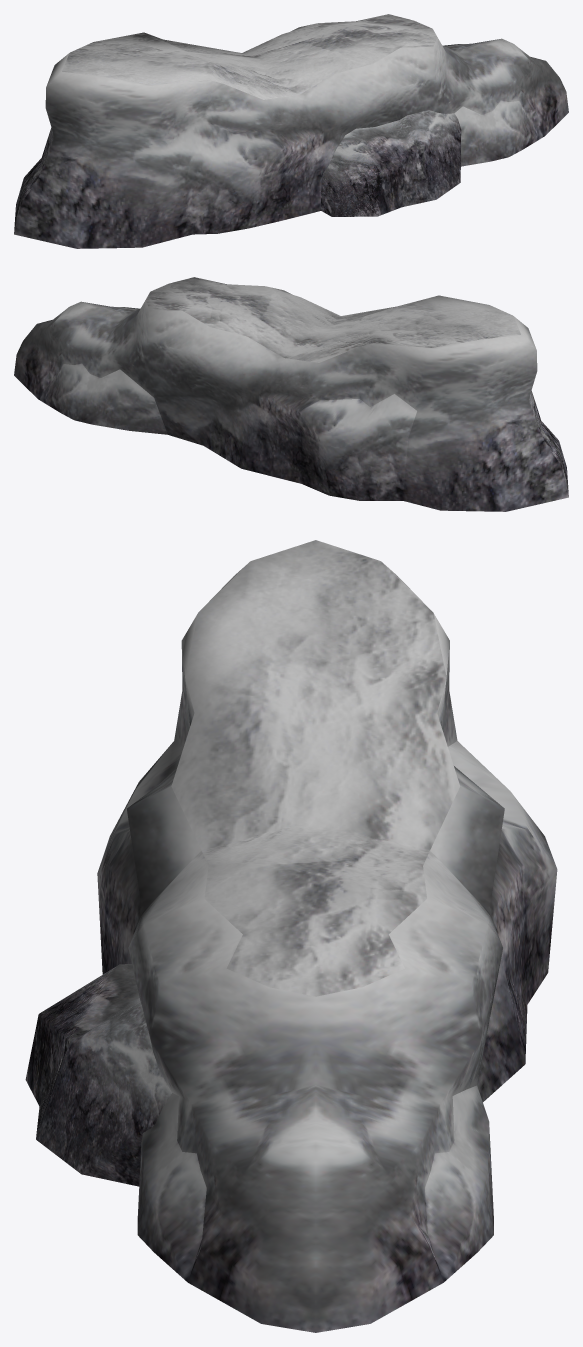
Rendered from snow_d_a02c.fbx.
The picture shows the model from 3 angles, top to bottom: view 1: azimuth 30°, elevation 25°; view 2: azimuth 150°, elevation 25°; view 3: azimuth 270°, elevation 25°; orthographic projection. The views are drawn at different scales.
Parts seen in each view (by area): view 1: d_a02c; view 2: d_a02c; view 3: d_a02c.
Part boxes in pixels (x1=…): d_a02c: x1=14, y1=14, x2=568, y2=248; d_a02c: x1=14, y1=277, x2=568, y2=511; d_a02c: x1=25, y1=540, x2=557, y2=1332.
Size of the model in its own units: 2591 by 685 by 1083.
